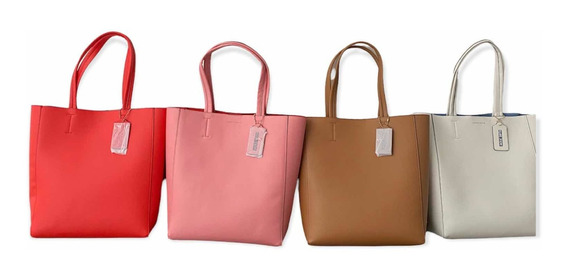cartera: (165, 39, 307, 247), (27, 31, 165, 240), (297, 40, 430, 249), (429, 38, 539, 240)
